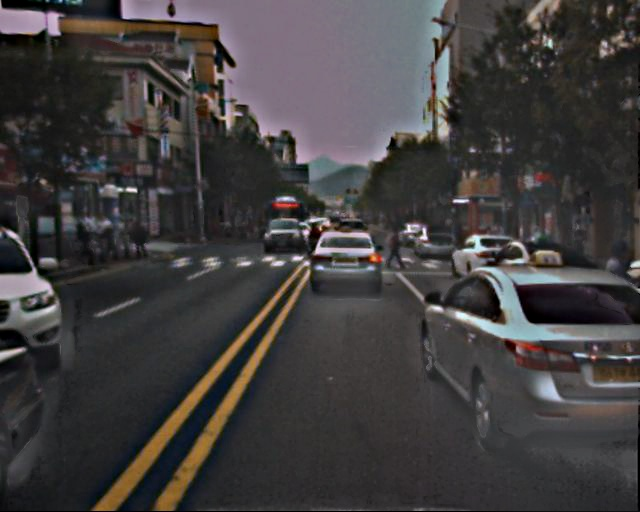person: (600, 242, 640, 340), (74, 212, 145, 263), (570, 222, 589, 268), (386, 227, 403, 268)
